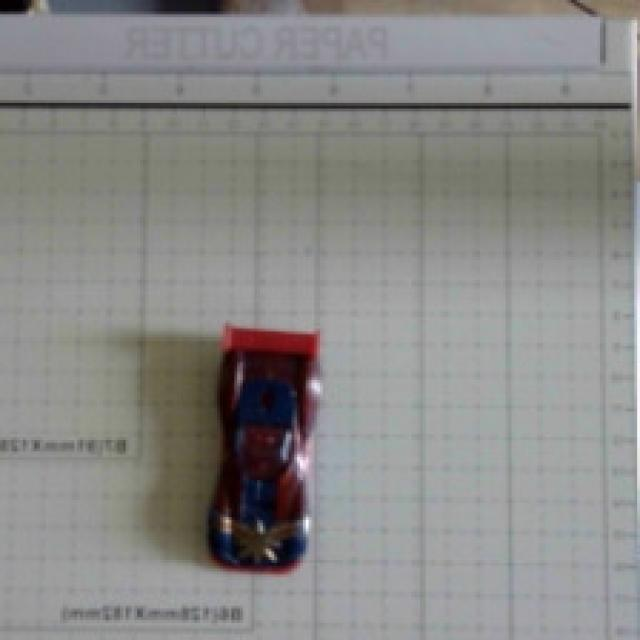Red Car: (184, 289, 383, 592)
